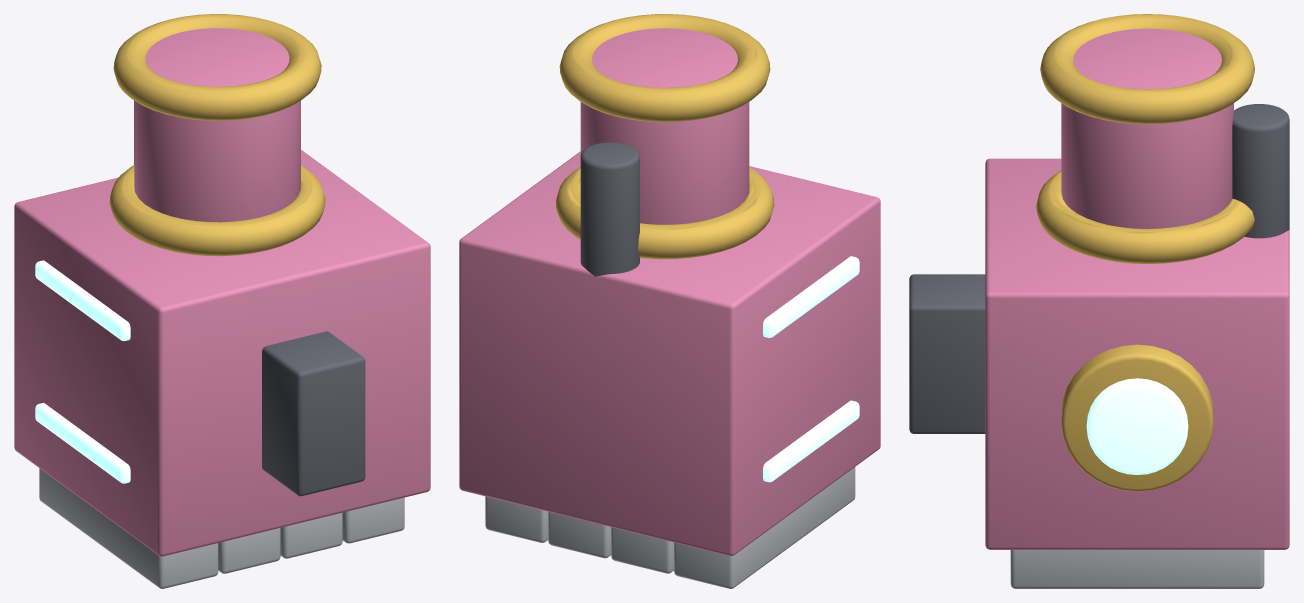
File: vi_gauntletL.glb
3 views of the same model, side by side, from view 1: azimuth 30°, elevation 25°; view 2: azimuth 150°, elevation 25°; view 3: azimuth 270°, elevation 25° (orthographic). The views are drawn at different scales.
Visible parts, largest first — view 1: vi_gauntletL; view 2: vi_gauntletL; view 3: vi_gauntletL.
Boxes of the visible parts, x1=… form: vi_gauntletL: x1=14, y1=14, x2=430, y2=588; vi_gauntletL: x1=459, y1=14, x2=880, y2=588; vi_gauntletL: x1=909, y1=14, x2=1289, y2=588.
Size of the model in its own units: 0.37 by 0.5172 by 0.375.
